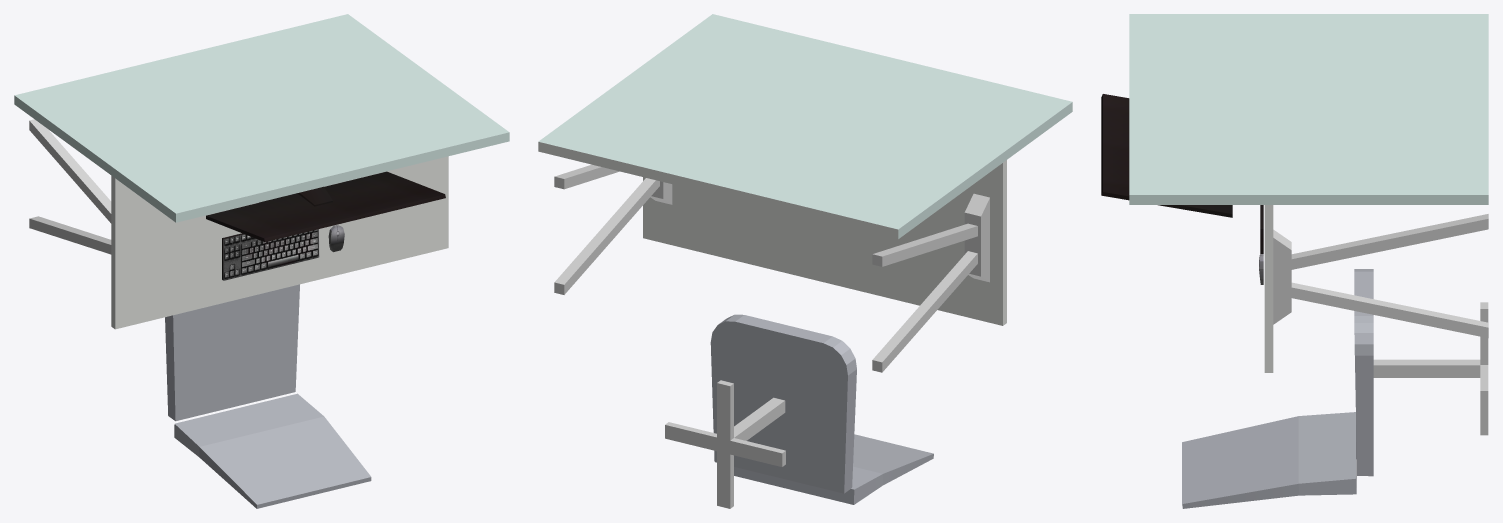
3 renders of one model, left to right at view 1: azimuth 30°, elevation 25°; view 2: azimuth 150°, elevation 25°; view 3: azimuth 270°, elevation 25°, orthographic. The views are drawn at different scales.
Visible parts, largest first — view 1: 显示器.001; view 2: 显示器.001; view 3: 显示器.001.
Boxes of the visible parts, x1,y1,x2,y2 form: 显示器.001: [14, 14, 509, 508]; 显示器.001: [538, 14, 1072, 508]; 显示器.001: [1101, 14, 1488, 508].
Size of the model in its own units: 1.4 by 1.36 by 1.27.
Materials: 5 (1 with a texture image).
